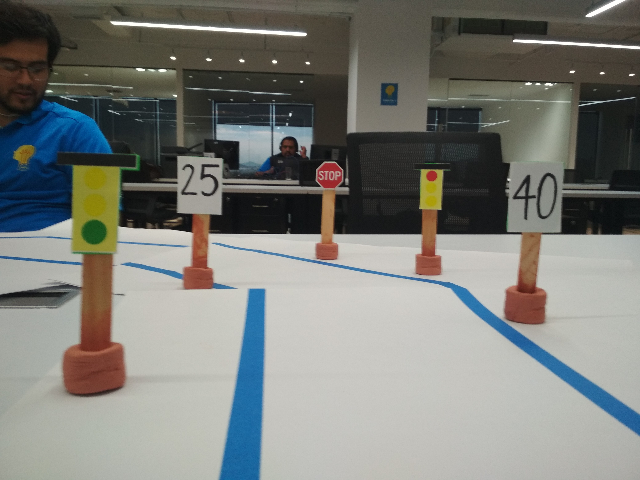Green Traffic Light: (51, 147, 144, 256)
Red Traffic Light: (412, 161, 451, 211)
Speed Limit 25: (173, 153, 224, 216)
Speed Limit 40: (505, 159, 564, 236)
Stop Sign: (312, 159, 344, 190)
